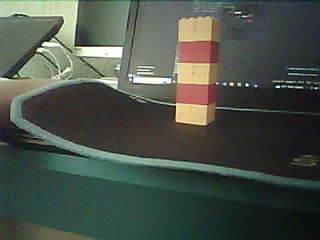lego: (175, 16, 220, 125)
